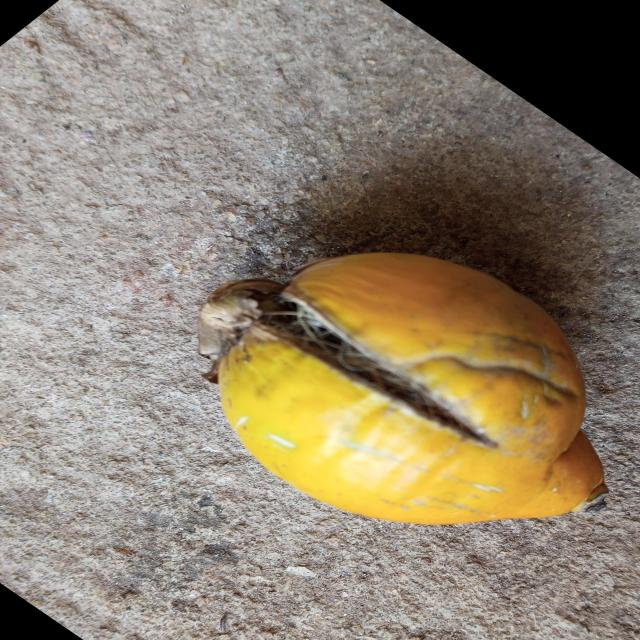damaged: (203, 253, 608, 528)
